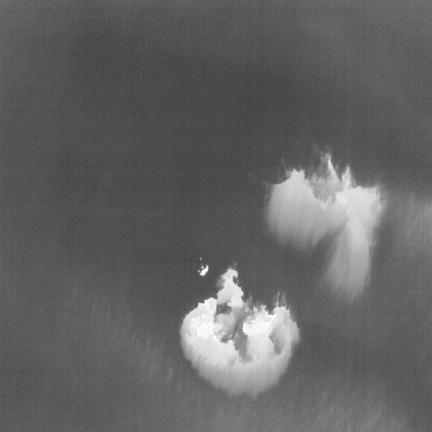flukeprints: (265, 154, 382, 299), (180, 268, 299, 396)
